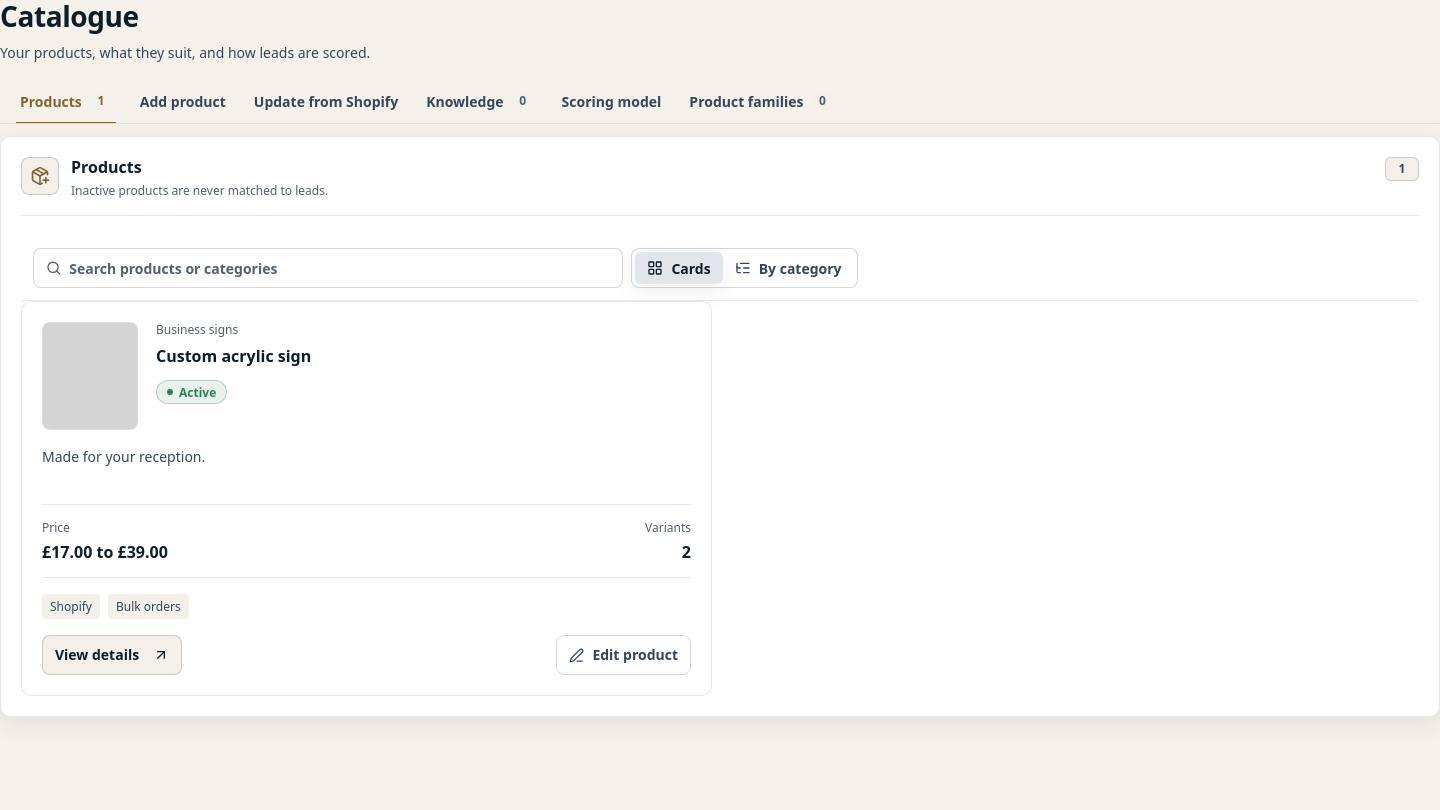
Test: Catalogue product details › opens the complete description and variant details (phone: false)
Click the button "View details" at (112, 656), box [42,636,182,676]
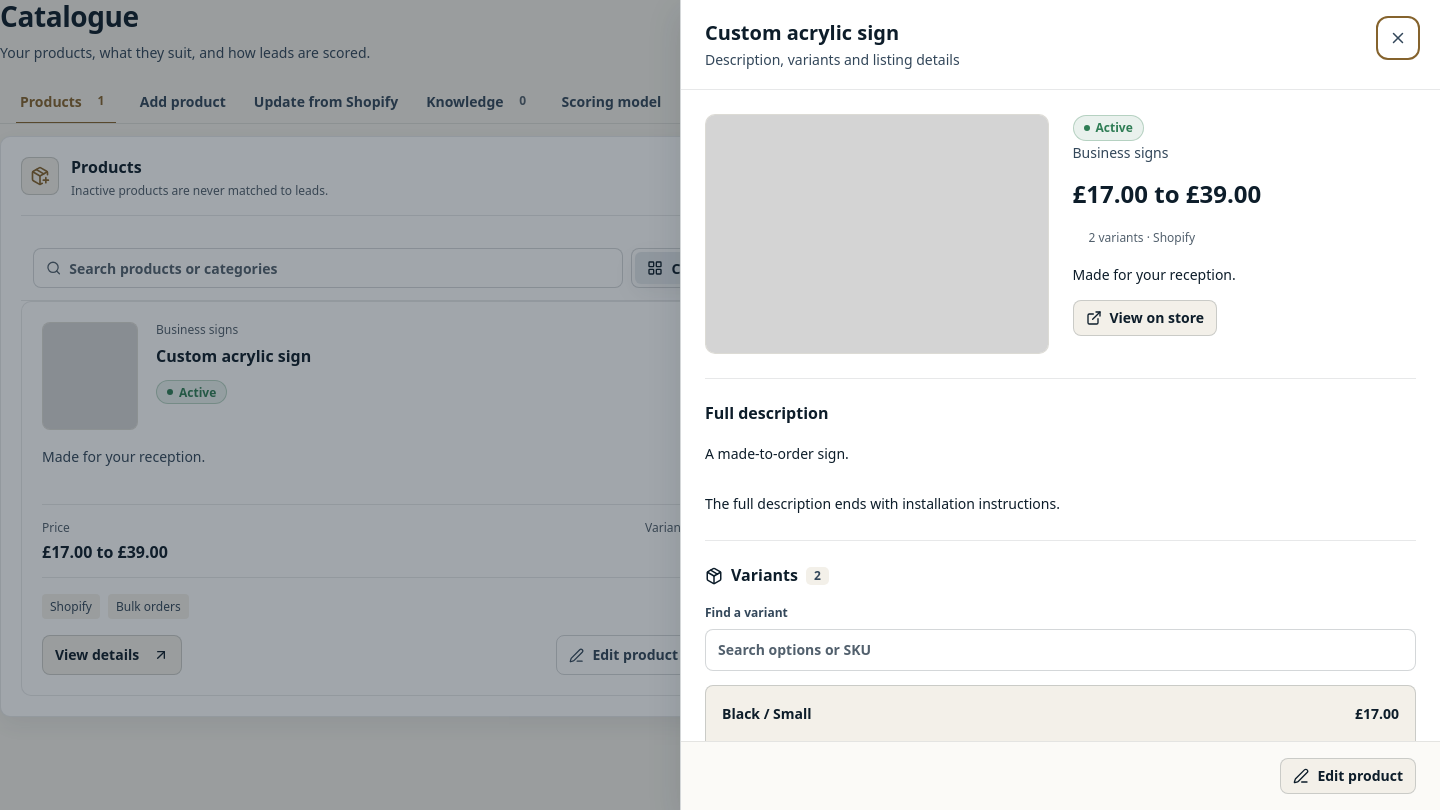
Expected: the text "The full description ends with installation instructions" is shown, [705,444,1060,513]
Type "SIGN-W" into the search field labelled "Find a variant" at (1060, 650), box [705,628,1416,670]
(page scrolled)
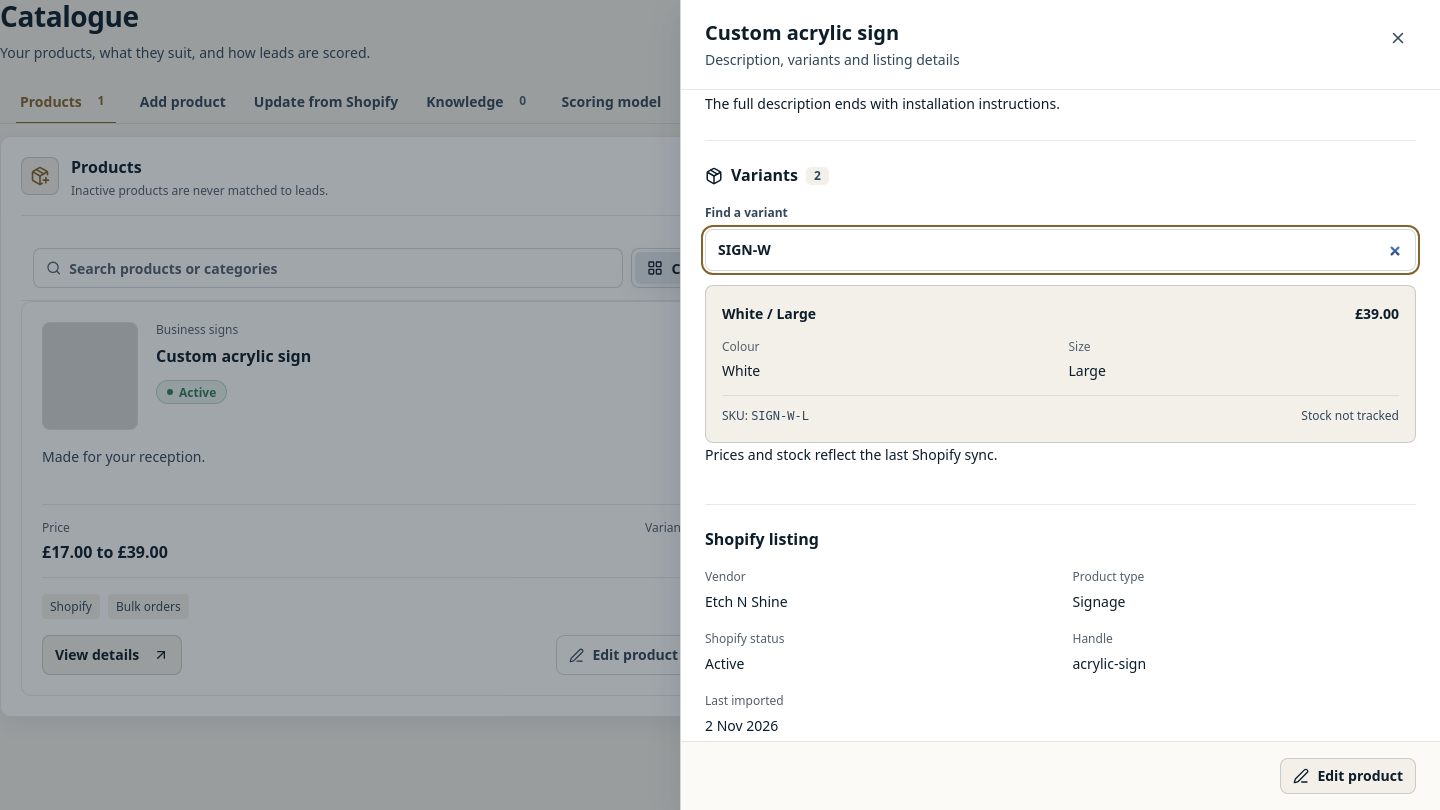
Expected: the text "SIGN-B-S" is not shown
Expected: the text "SIGN-W-L" is shown, [751,408,809,422]
Press Escape
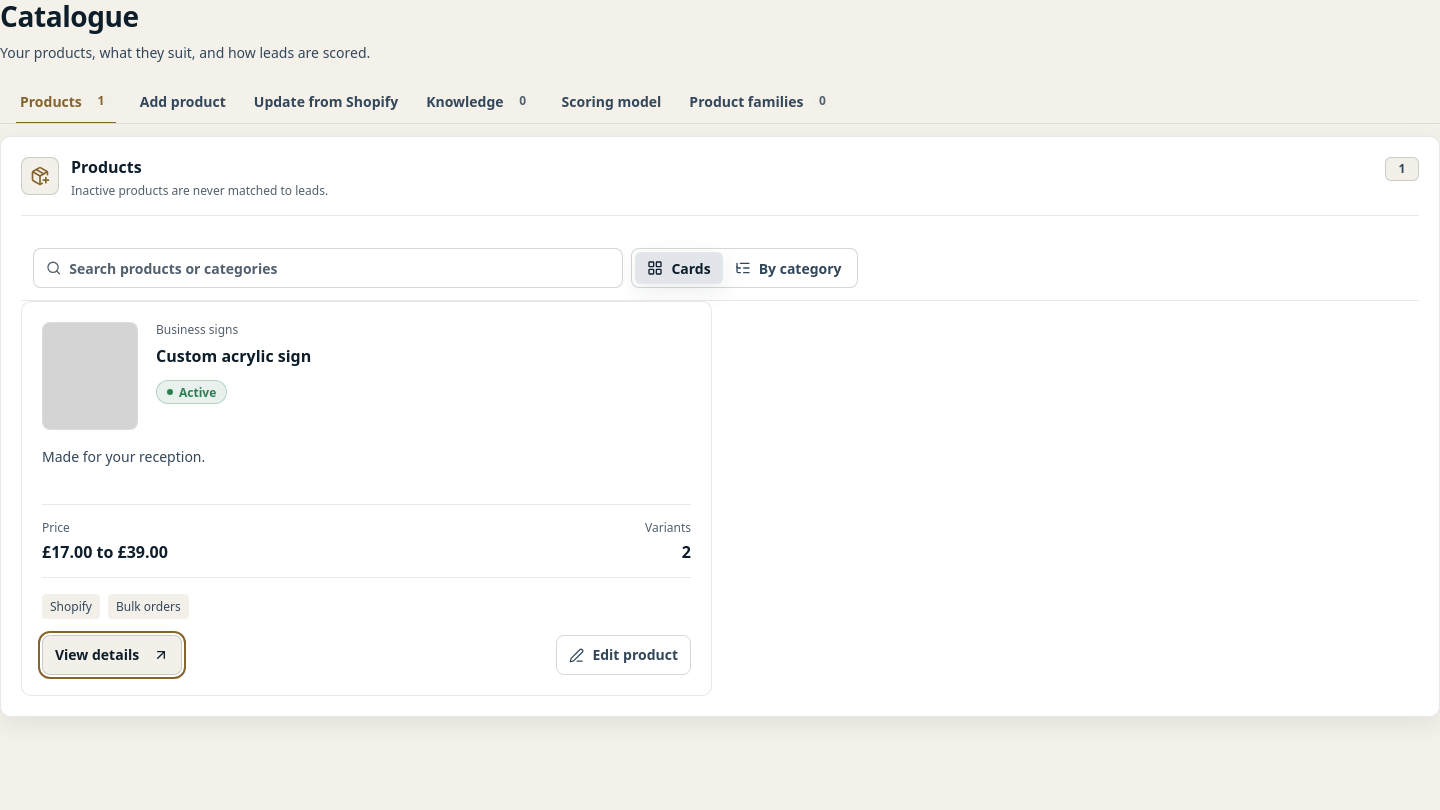
Expected: the dialog is gone
